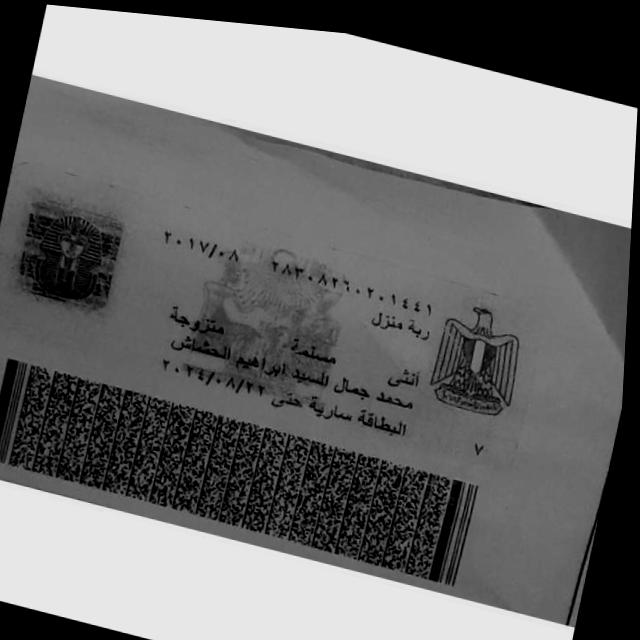id_card: (0, 79, 631, 623)
